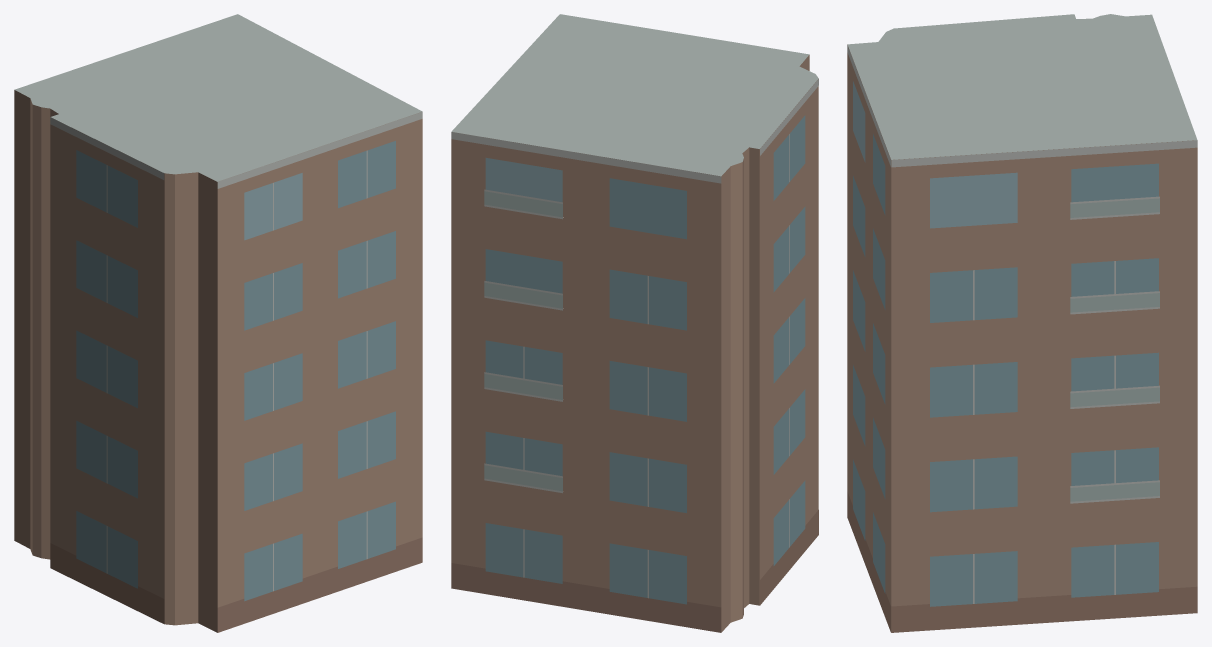
Rendered from survey-upis-32901635.glb.
The picture shows the model from 3 angles, left to right: view 1: azimuth 30°, elevation 25°; view 2: azimuth 150°, elevation 25°; view 3: azimuth 270°, elevation 25°; orthographic projection. The views are drawn at different scales.
Parts seen in each view (by area): view 1: survey-upis-32901635.tmp; view 2: survey-upis-32901635.tmp; view 3: survey-upis-32901635.tmp.
Boxes of the visible parts, bbox=[...] form: survey-upis-32901635.tmp: bbox=[14, 14, 422, 632]; survey-upis-32901635.tmp: bbox=[451, 14, 818, 632]; survey-upis-32901635.tmp: bbox=[847, 14, 1197, 632].
Bounding box in the file's own units: 10.13 × 15.3 × 10.28.
